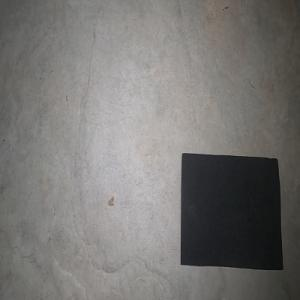PaintChip: (180, 152, 283, 270)
